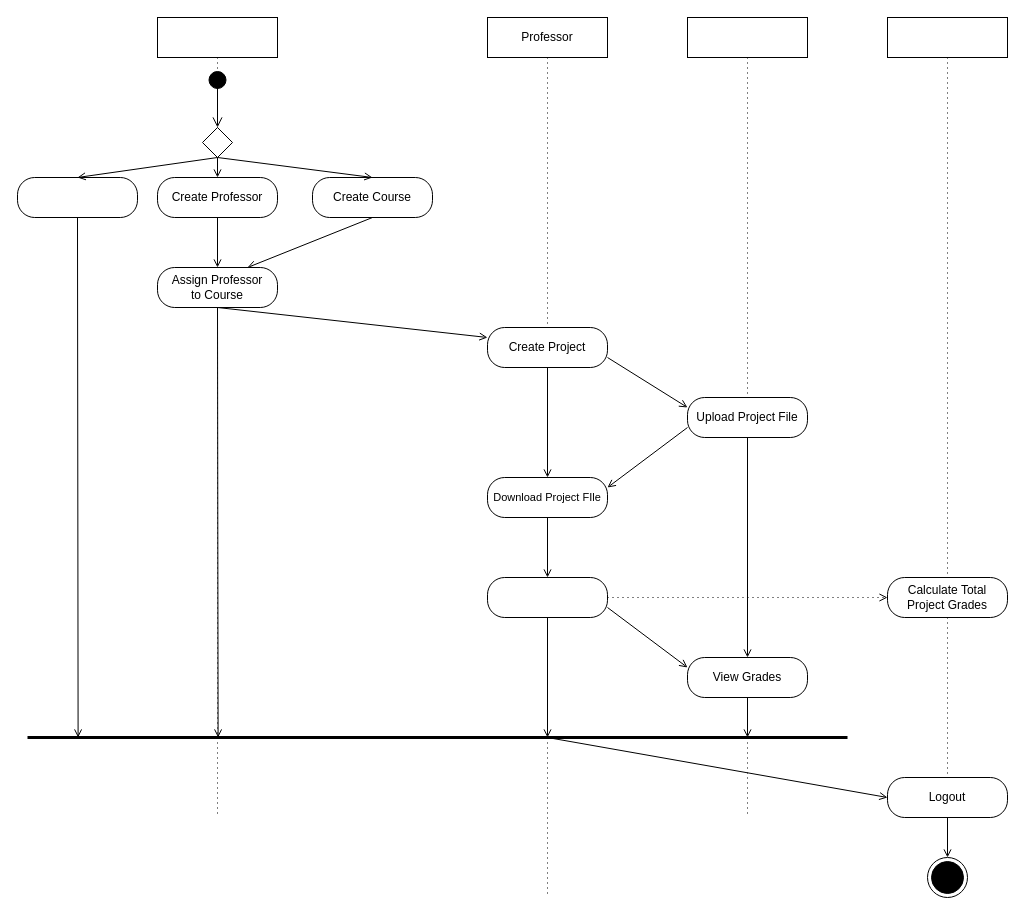
The diagram is 1025 pixels wide and 916 high, and some of its shapes have lost their labels. The centre of each missing label's shape, as x and y in pixels:
"Admin" goes at pixel 217 37.
"Application" goes at pixel 947 37.
"Create Student" goes at pixel 77 197.
"Grade Project File" goes at pixel 547 597.
"Student" goes at pixel 747 37.
